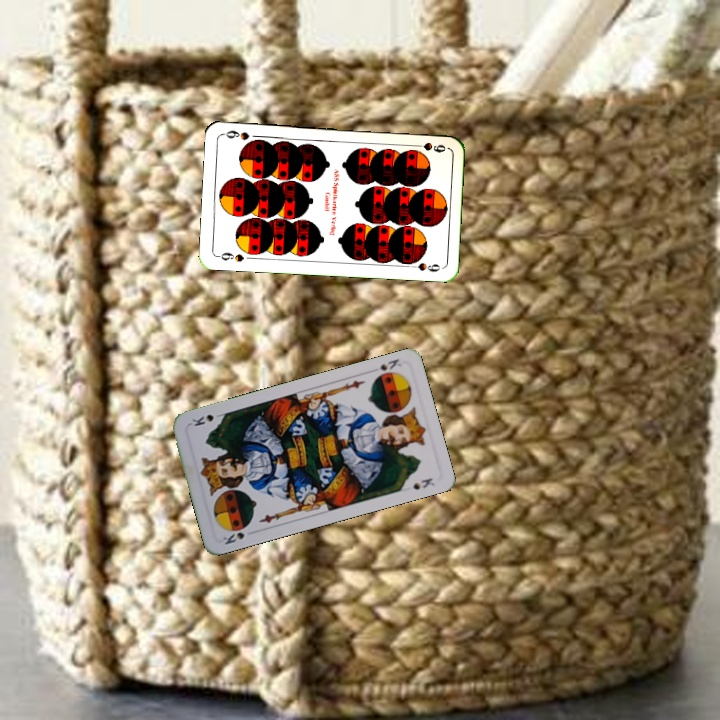S9: (408, 138, 448, 155), (213, 248, 246, 264)
SK: (370, 355, 403, 381), (219, 528, 247, 547)
